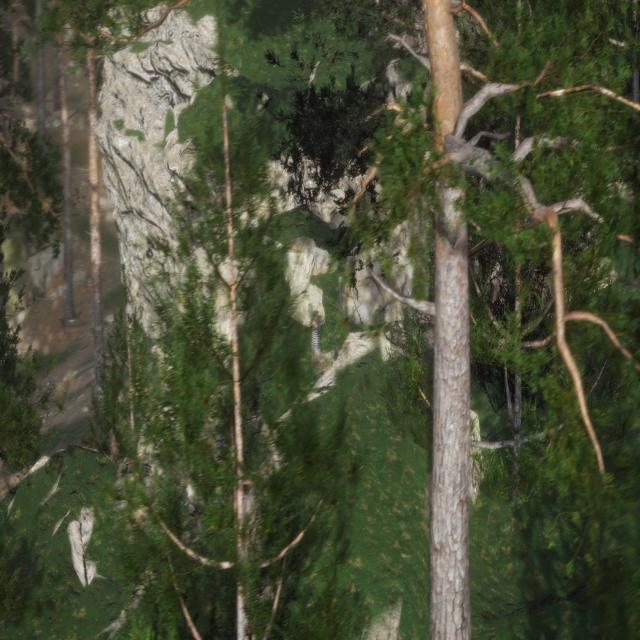Human: (302, 300, 325, 384)
